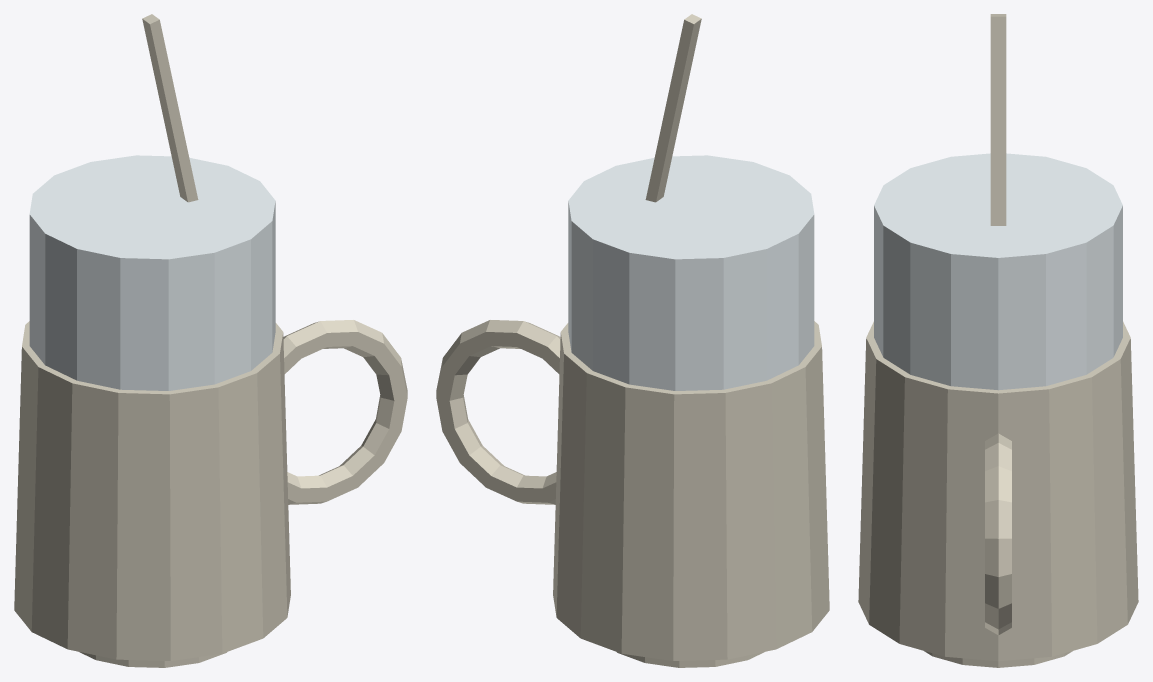
Rendered from kitchen_glass.glb.
3 renders of one model, left to right at view 1: azimuth 30°, elevation 25°; view 2: azimuth 150°, elevation 25°; view 3: azimuth 270°, elevation 25°, orthographic.
Visible parts, largest first — view 1: kitchen_glass; view 2: kitchen_glass; view 3: kitchen_glass.
Boxes of the visible parts, x1,y1,x2,y2 form: kitchen_glass: (14, 14, 407, 667); kitchen_glass: (436, 14, 829, 667); kitchen_glass: (858, 14, 1138, 667).
Size of the model in its own units: 0.112 by 0.174 by 0.072.
